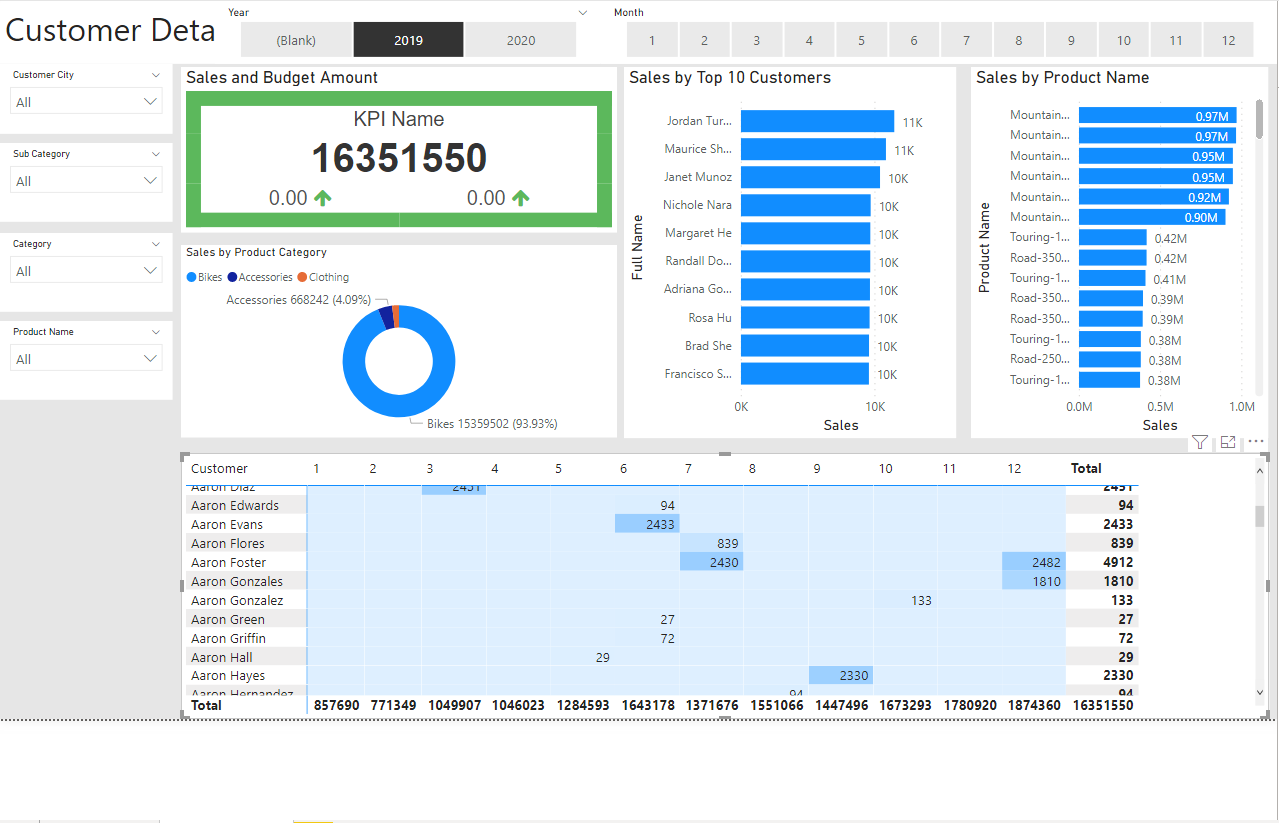

The page's visual inventory and layout, read from the dashboard file:
{"tool":"powerbi","page":{"name":"Customer Details","canvas":[1280,720],"ordinal":1},"visuals":[{"type":"textbox","box":[0,0,1280,63.2],"z":0},{"type":"slicer","fields":{"Values":["DIM_Customer.Customer City"]},"box":[0,63.1,173.4,70.2],"z":1000},{"type":"slicer","fields":{"Values":["DIM_Products.Sub Category"]},"box":[0,142.3,173.4,79.2],"z":2000},{"type":"slicer","fields":{"Values":["DIM_Products.Product Category"]},"box":[0,232.5,173.4,79.2],"z":3000},{"type":"slicer","fields":{"Values":["DIM_Products.Product Name"]},"box":[0,320.8,173.4,79.2],"z":4000},{"type":"slicer","fields":{"Values":["DIM_Calendar.Year"]},"box":[215.7,0,386.2,63],"z":5000},{"type":"slicer","fields":{"Values":["DIM_Calendar.MonthNo"]},"box":[601.9,0,678.3,63],"z":6000},{"type":"BBED0A4D4D8D44CE93CF2DAFADEE466C","fields":{"actual":["FACT_InternetSales.Sales"],"target1":["Key Measures.Budget Amount"]},"box":[181.4,66.2,437,166.4],"z":7000},{"type":"donutChart","fields":{"Category":["DIM_Products.Product Category"],"Y":["Key Measures.Sales"]},"box":[181.4,244.6,437,193.5],"z":8000},{"type":"barChart","title":"Sales by Top 10 Customers","fields":{"Y":["Key Measures.Sales"],"Category":["DIM_Customer.Full Name"]},"box":[625.5,66.2,332.8,371.9],"z":10000},{"type":"barChart","fields":{"Category":["DIM_Products.Product Name"],"Y":["Key Measures.Sales"]},"box":[973.3,66.2,297.7,371.9],"z":11000},{"type":"pivotTable","fields":{"Rows":["DIM_Customer.Full Name"],"Values":["Key Measures.Sales"],"Columns":["DIM_Calendar.MonthNo"]},"box":[181.4,453.1,1090.6,266.6],"z":11001}]}

Visuals, with their boxes on the page's 1280x720 design canvas (x1, y1, x2, y2). These are canvas units, not pixel positions in the 1279x823 screenshot, which may show the page scaled, cropped or inside an application window:
textbox: (left=0, top=0, right=1280, bottom=63)
slicer - DIM_Customer.Customer City: (left=0, top=63, right=173, bottom=133)
slicer - DIM_Products.Sub Category: (left=0, top=142, right=173, bottom=222)
slicer - DIM_Products.Product Category: (left=0, top=232, right=173, bottom=312)
slicer - DIM_Products.Product Name: (left=0, top=321, right=173, bottom=400)
slicer - DIM_Calendar.Year: (left=216, top=0, right=602, bottom=63)
slicer - DIM_Calendar.MonthNo: (left=602, top=0, right=1280, bottom=63)
BBED0A4D4D8D44CE93CF2DAFADEE466C - FACT_InternetSales.Sales x Key Measures.Budget Amount: (left=181, top=66, right=618, bottom=233)
donutChart - DIM_Products.Product Category x Key Measures.Sales: (left=181, top=245, right=618, bottom=438)
"Sales by Top 10 Customers" barChart: (left=626, top=66, right=958, bottom=438)
barChart - DIM_Products.Product Name x Key Measures.Sales: (left=973, top=66, right=1271, bottom=438)
pivotTable - DIM_Customer.Full Name x Key Measures.Sales: (left=181, top=453, right=1272, bottom=720)
